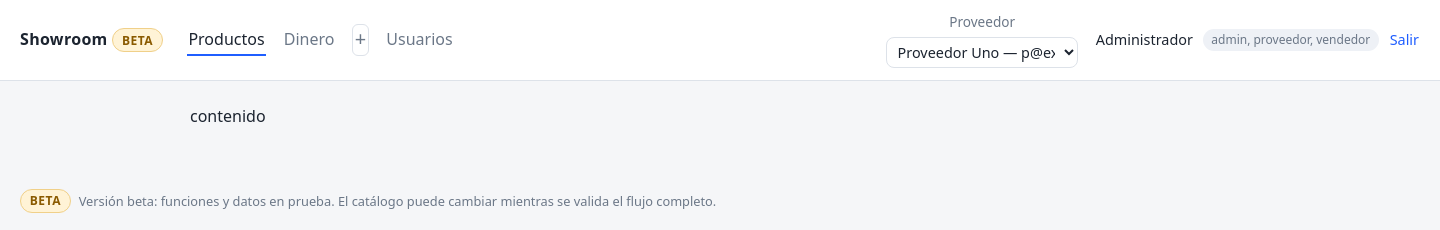
Test: Layout › muestra el selector de proveedor y cierra sesión
Expected: the text "contenido" is shown, x1=190 y1=105 x2=266 y2=127
Expected: the link "Usuarios" is shown, x1=385 y1=24 x2=454 y2=56
Select "— elegir —" in the dropdown labelled "Proveedor". click: (982, 52)
box: x1=886 y1=37 x2=1078 y2=68
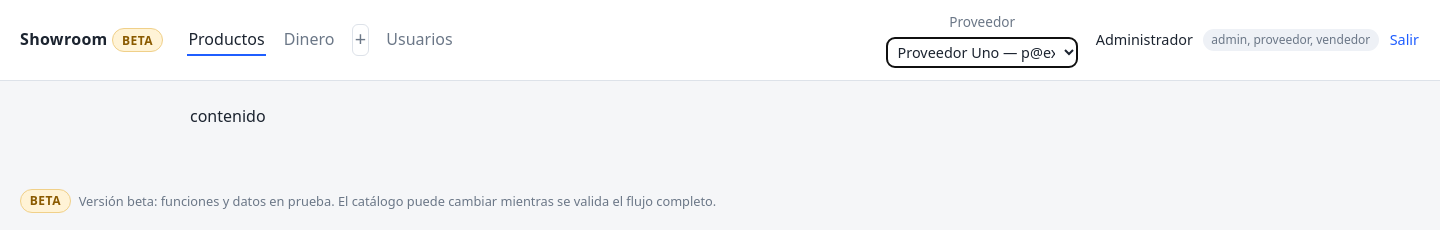
Click the button "Salir". click: (1404, 40)
box: x1=1389 y1=29 x2=1420 y2=50
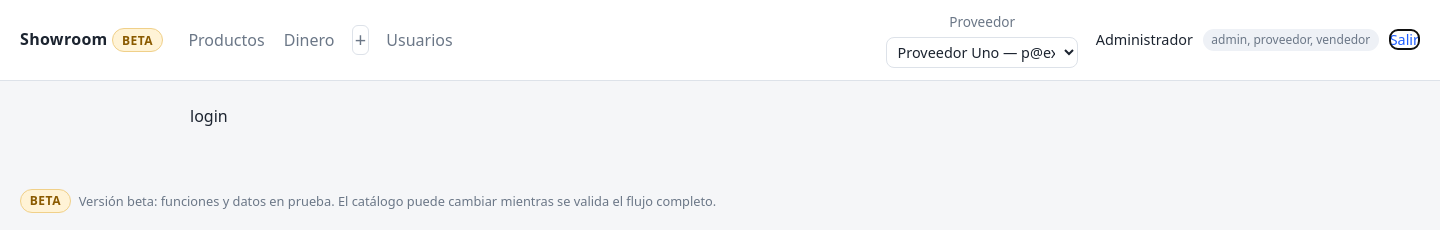
Expected: the text "login" is shown, x1=190 y1=105 x2=228 y2=127
